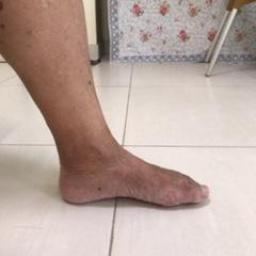Medial View -Left Foot-: (39, 122, 223, 226)
